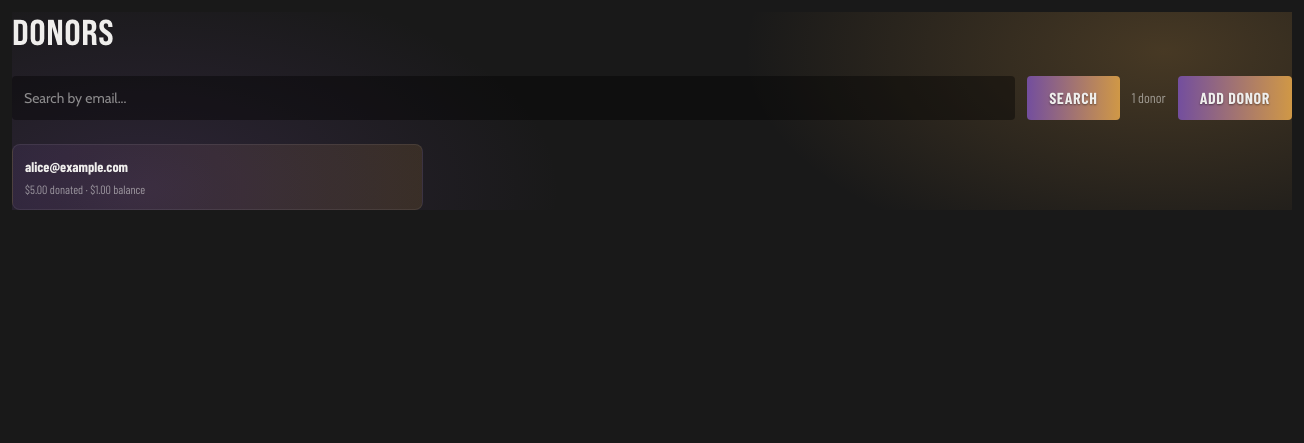
Scenario: AdminDonors › opens a donor wallet on click
This screenshot has width=1304, height=443.
Click the text "alice@example.com". click: click(76, 166)
box: [25, 158, 128, 175]
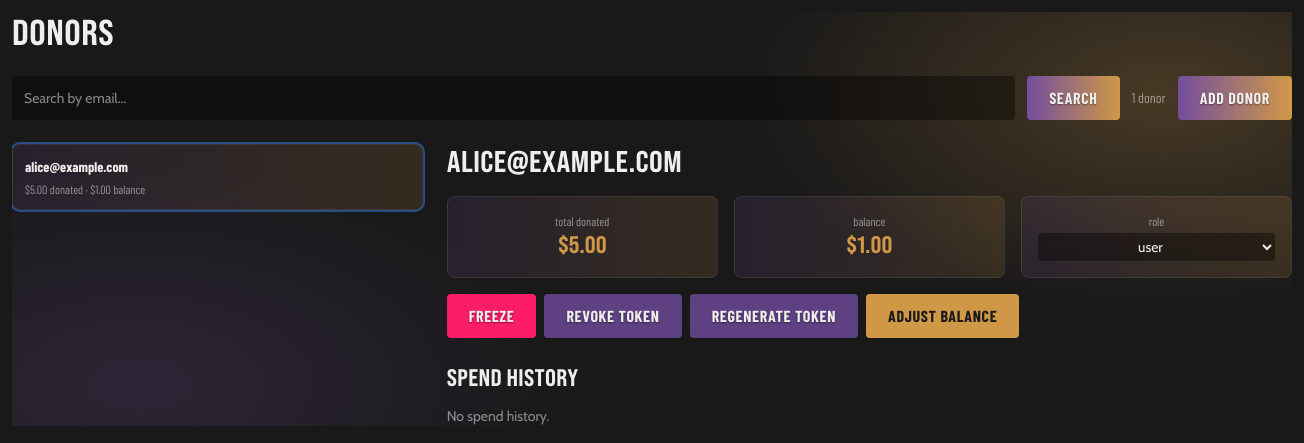
Now the text "No spend history." is shown, box [447, 407, 549, 425]
